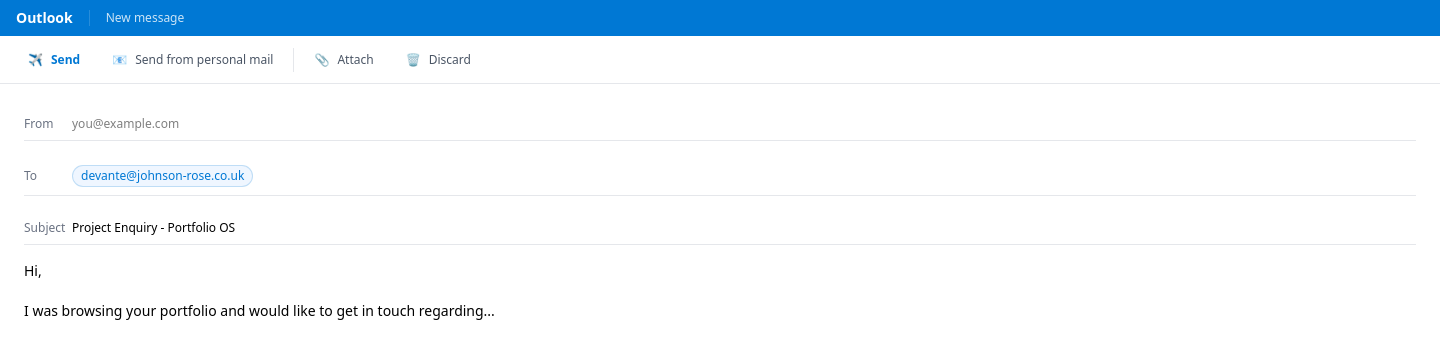
Scenario: Outlook › shows the error the server returns
The width and height of the screenshot is (1440, 337).
Type "jo@example.com" into the field labelled "From" at (744, 124), box x1=72 y1=116 x2=1416 y2=132
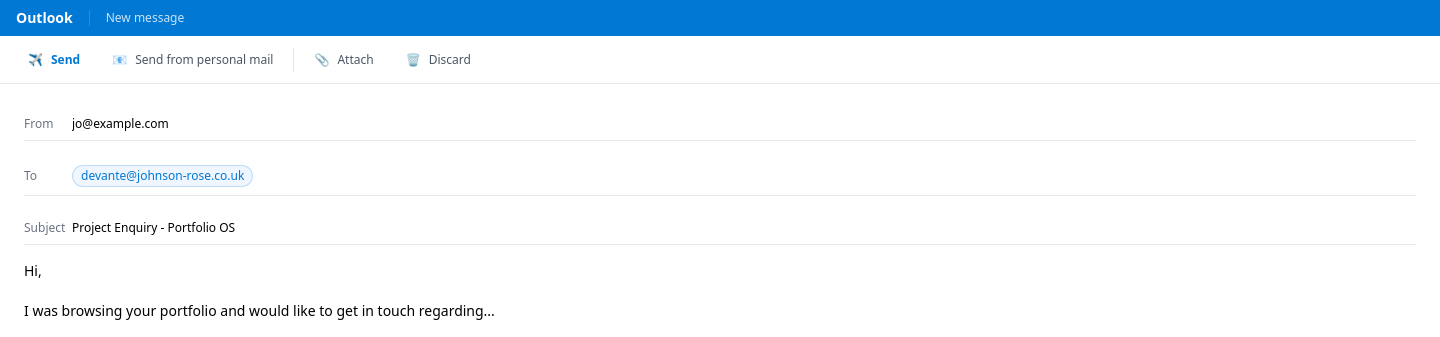
Click the button "✈️ Send" at (54, 60), box x1=16 y1=46 x2=92 y2=74
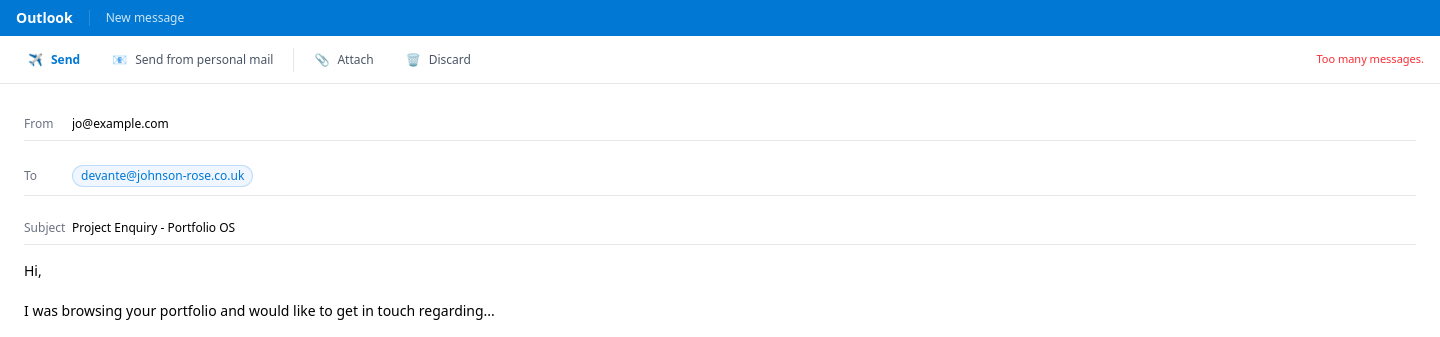
Now the text "Too many messages." is shown, box x1=1316 y1=51 x2=1424 y2=68
